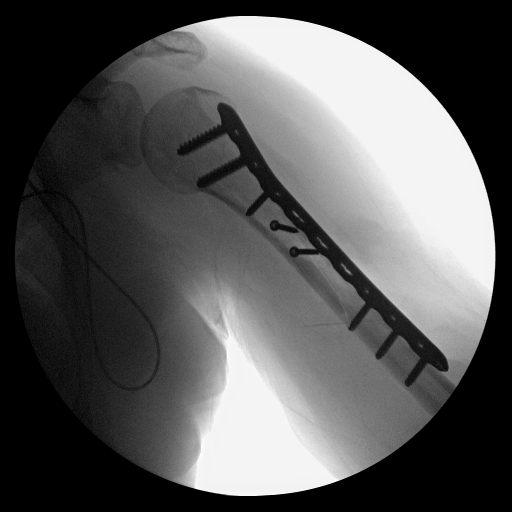implant: (171, 102, 287, 219), (345, 287, 451, 388)
